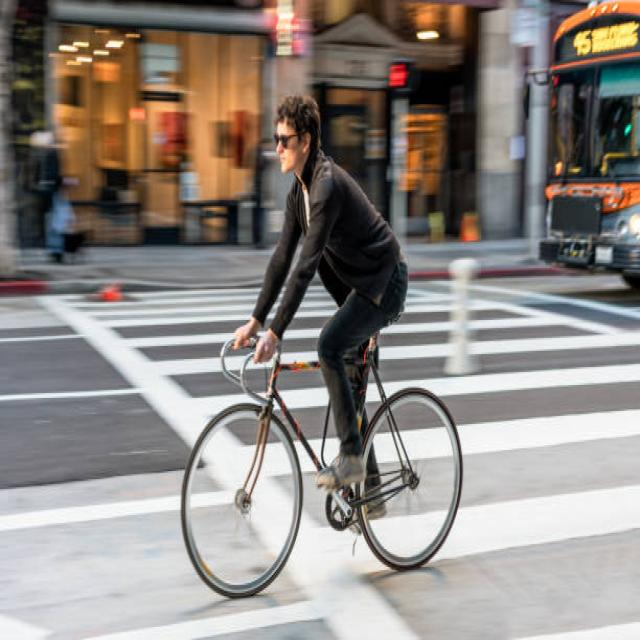bicycle: (182, 95, 462, 595)
